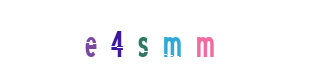4: (103, 0, 183, 80)
E: (65, 0, 145, 80)
M: (130, 0, 210, 80), (154, 0, 234, 80)
S: (117, 0, 197, 80)
